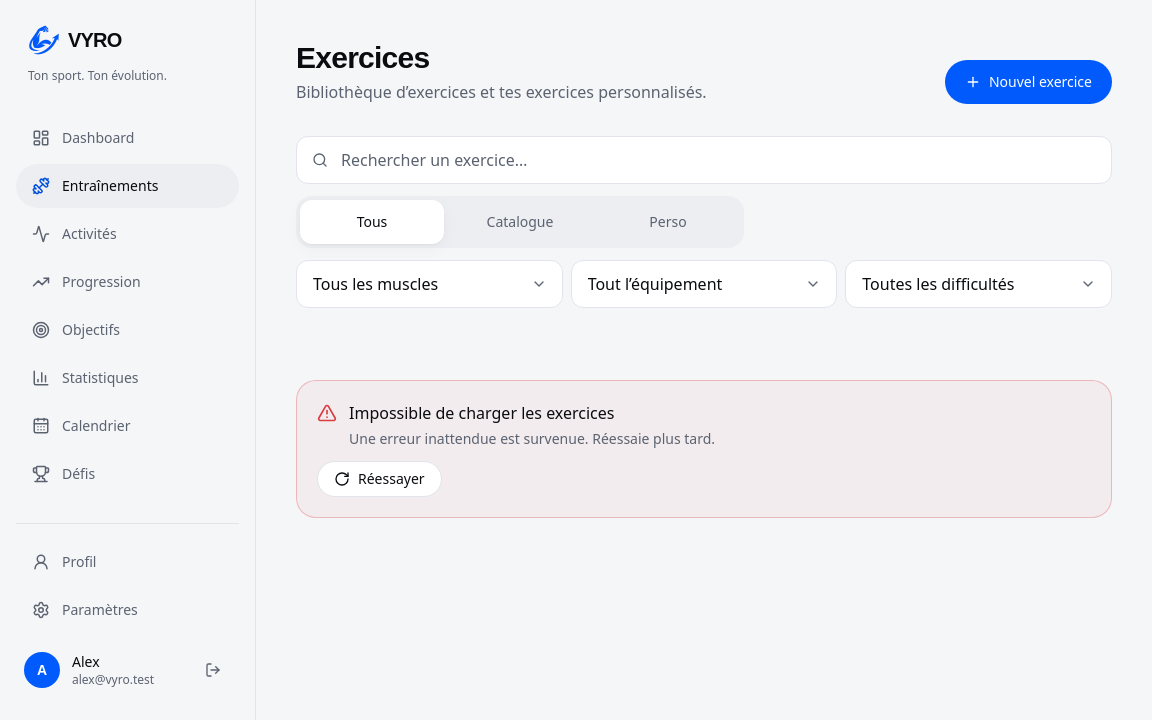
Scenario: Exercise library › shows an error with retry
The image size is (1152, 720).
Expected: the text "Impossible de charger les exercices" is shown, [349,402,614,424]
Click the button "Réessayer" at (379, 479), box [317,461,442,497]
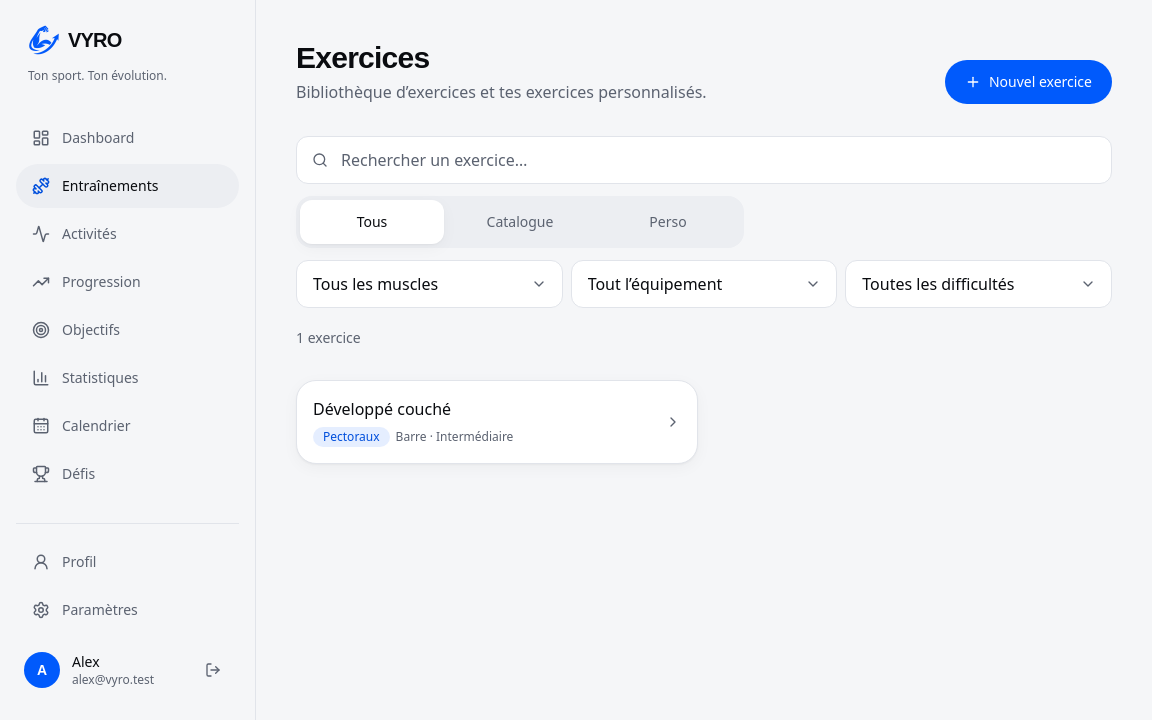
Expected: the text "1 exercice" is shown, [296,328,361,348]
